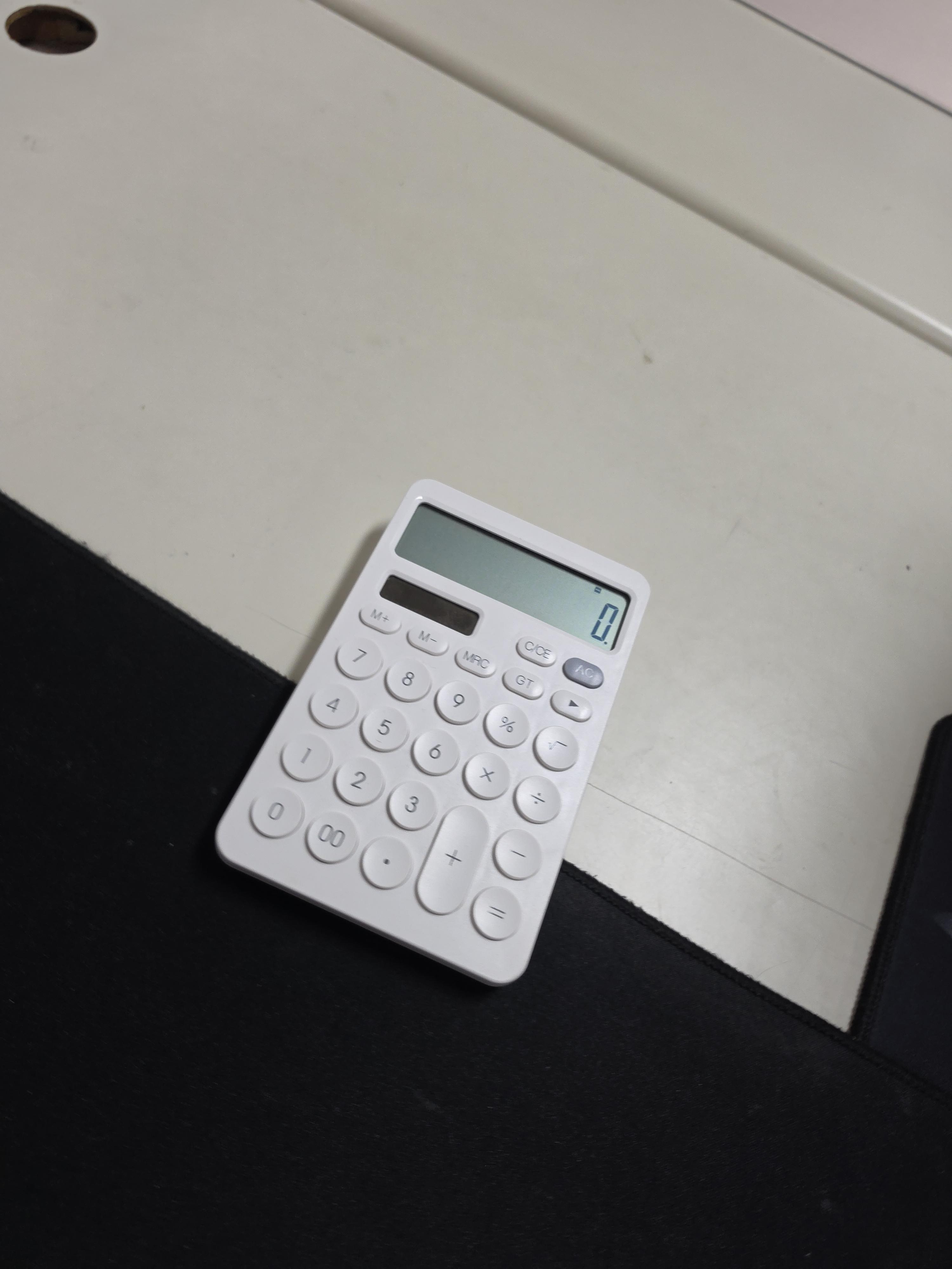calculator: (215, 477, 651, 987)
